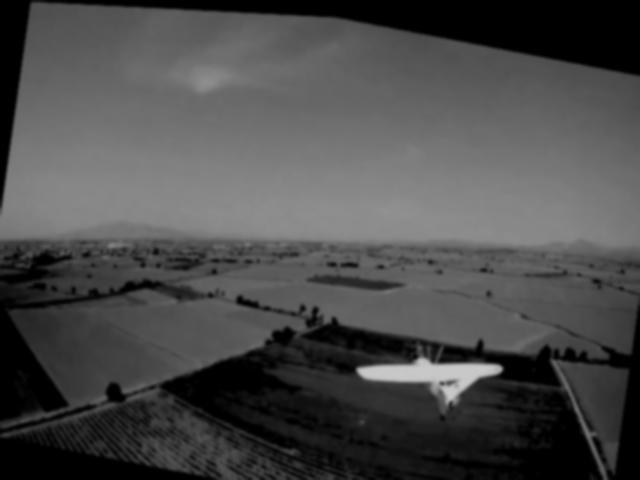hedef: (346, 318, 510, 430)
